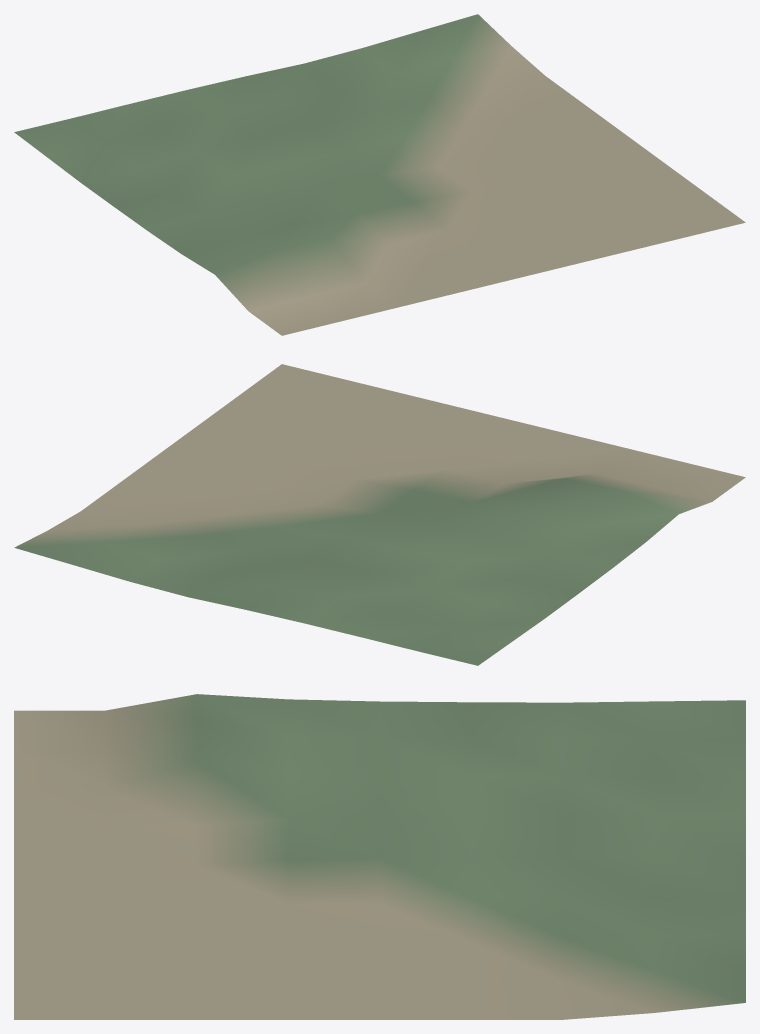
3 renders of one model, top to bottom at view 1: azimuth 30°, elevation 25°; view 2: azimuth 150°, elevation 25°; view 3: azimuth 270°, elevation 25°, orthographic. The views are drawn at different scales.
Parts seen in each view (by area): view 1: Lo; view 2: Lo; view 3: Lo.
Part boxes in pixels (<box>): Lo: <box>14,14,745,335</box>; Lo: <box>14,364,745,665</box>; Lo: <box>14,694,745,1019</box>.
Bounding box in the file's own units: 256 × 11.46 × 256.
